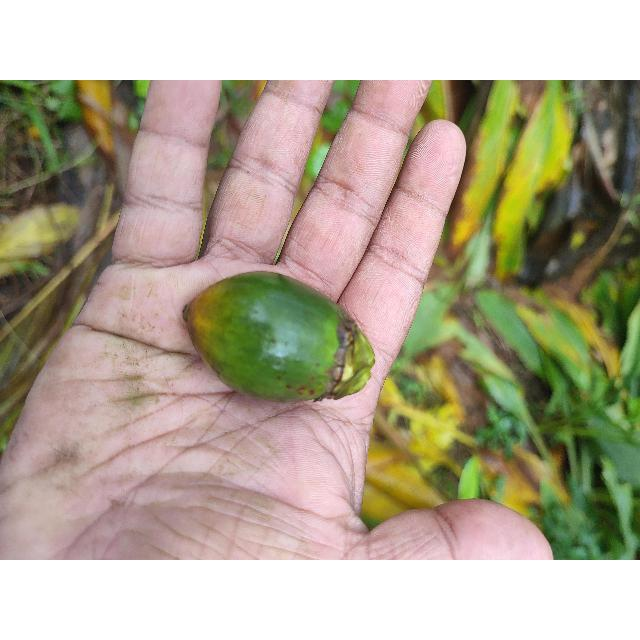good: (180, 271, 376, 404)
